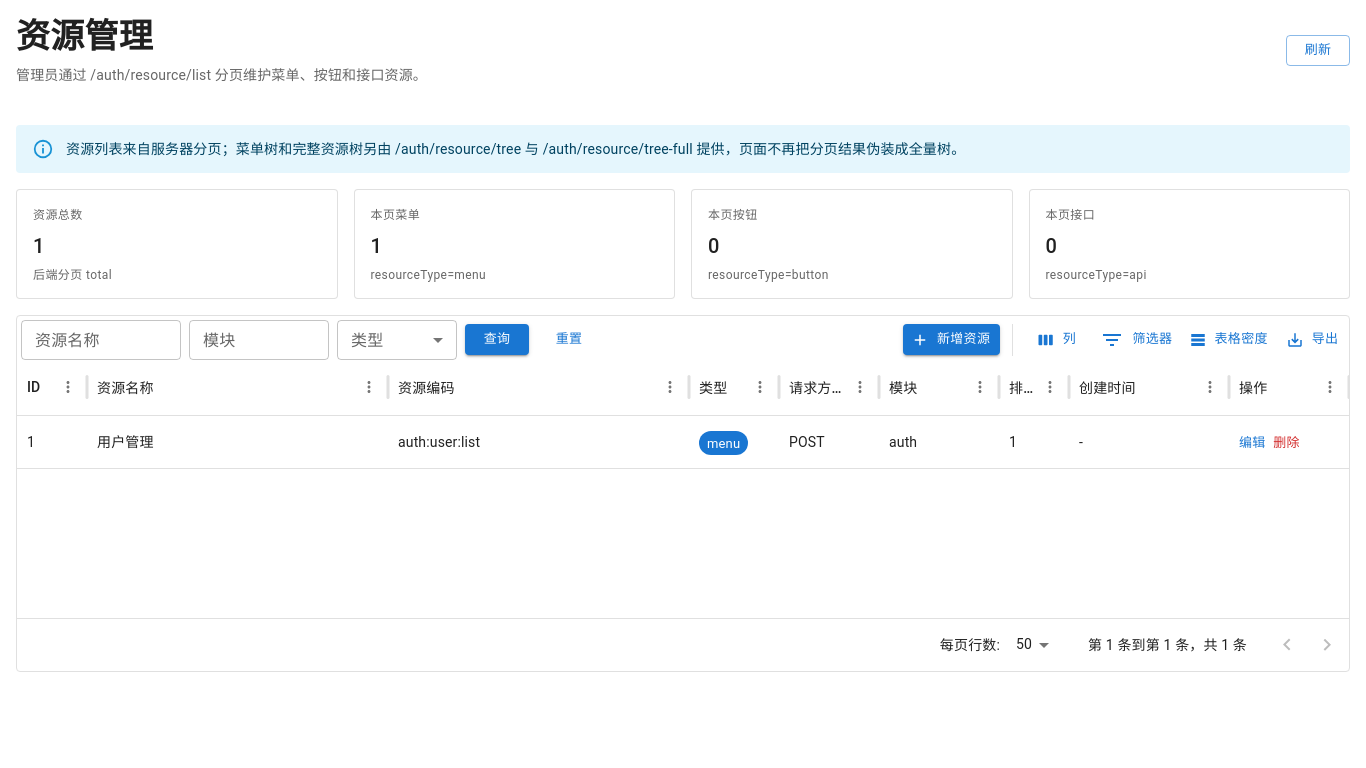
Test case: ResourcesPage › shows endpoint error when delete fails and keeps resource row plus confirm context
Expected: the text "用户管理" is shown, x1=97 y1=434 x2=154 y2=450
Step 1. Click the text "删除" → (1286, 442), box x1=1273 y1=435 x2=1300 y2=450
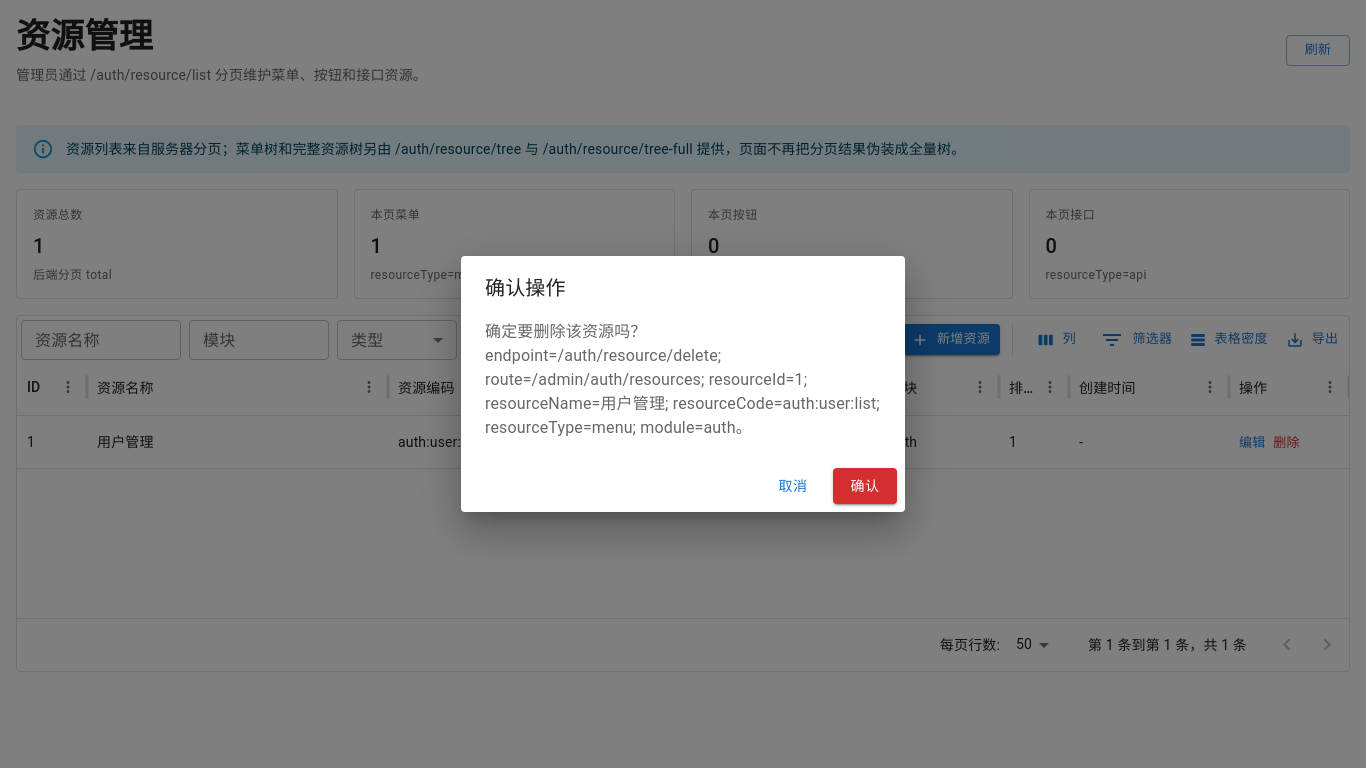
Expected: the text "endpoint=/auth/resource/delete; route=/admin/auth/resources; resourceId=1; resourceName=用户管理; resourceCode=auth:us" is shown, x1=485 y1=322 x2=880 y2=437
Step 2. Click the button "确认" → (865, 486), box x1=833 y1=468 x2=897 y2=504
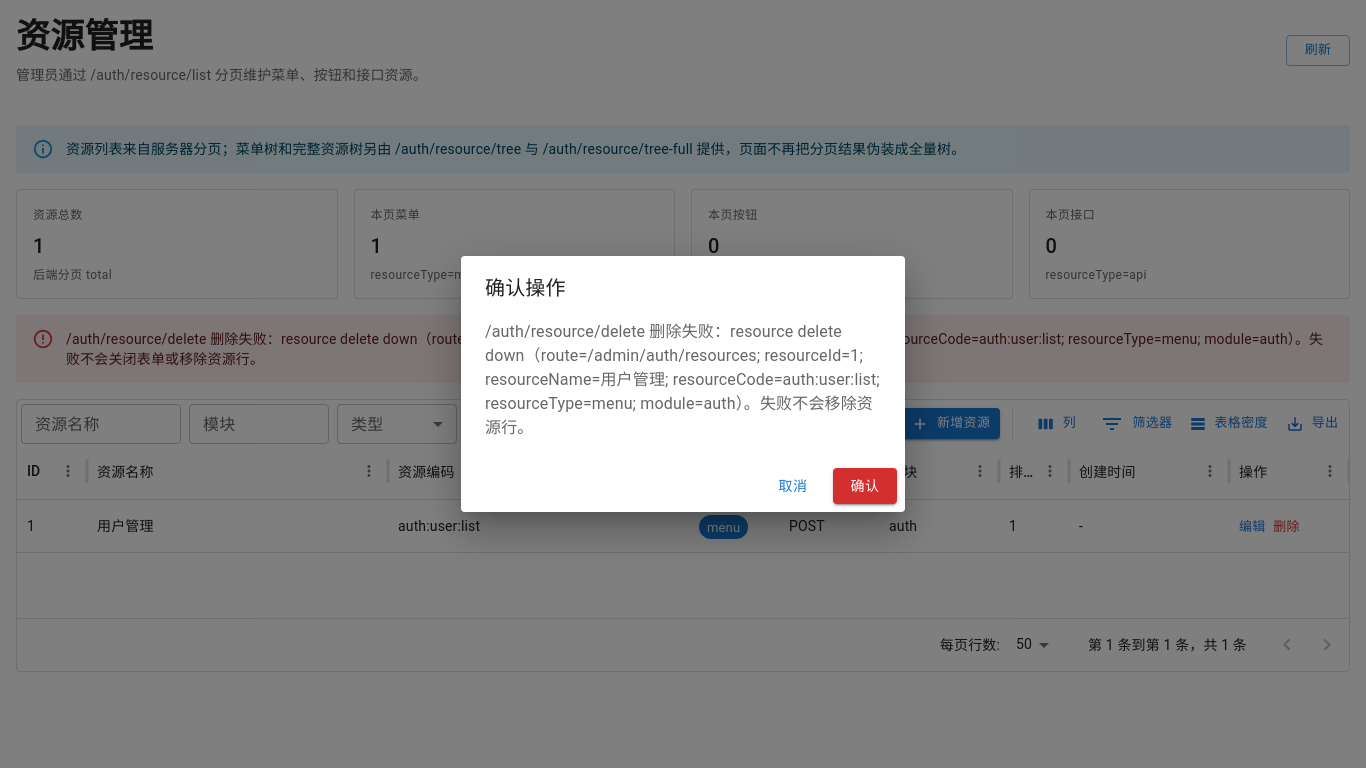
Expected: the text "用户管理" is shown, x1=97 y1=518 x2=154 y2=534
Expected: the dialog "确认操作" is shown, x1=461 y1=256 x2=905 y2=512
Expected: the text "resourceId=1; resourceName=用户管理; resourceCode=auth:user:list" is shown, x1=66 y1=331 x2=1295 y2=347
